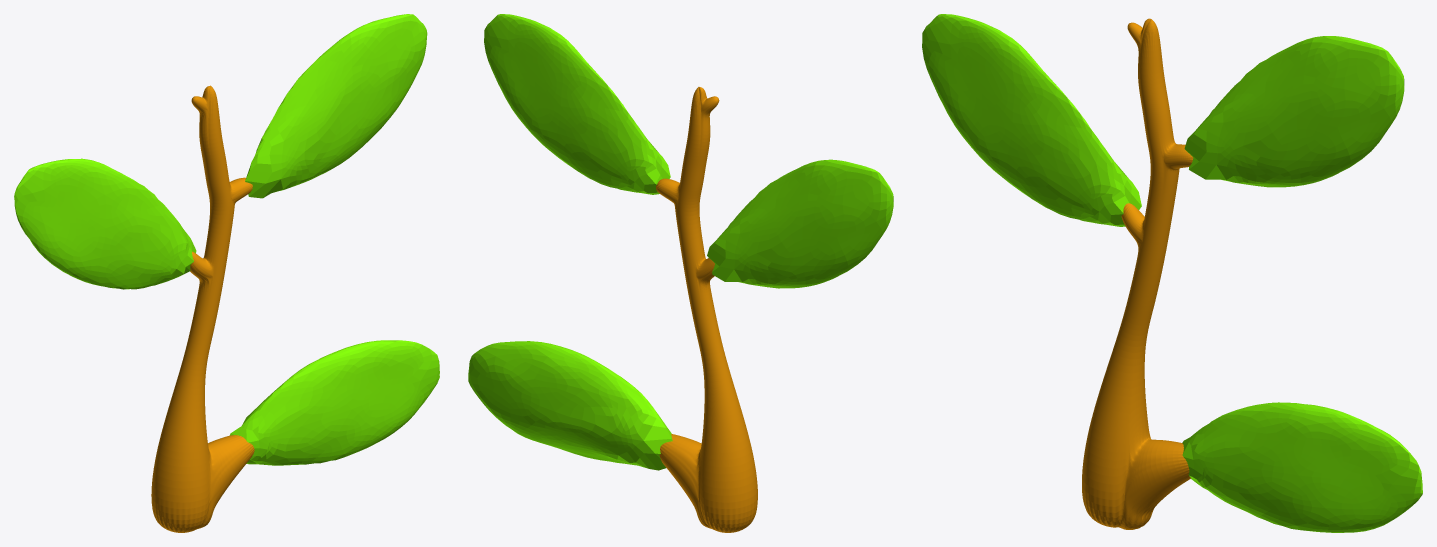
Rendered from plant.fbx.
3 views of the same model, side by side, from view 1: azimuth 30°, elevation 25°; view 2: azimuth 150°, elevation 25°; view 3: azimuth 330°, elevation 25° (orthographic). The views are drawn at different scales.
Visible parts, largest first — view 1: Icosphere.002, Cylinder.002, Icosphere.001, Icosphere; view 2: Icosphere.001, Icosphere.002, Icosphere, Cylinder.002; view 3: Icosphere.002, Icosphere, Icosphere.001, Cylinder.002.
Boxes of the visible parts, box(x1,y1,x2,y2) form: Icosphere.002: box(245, 14, 427, 198); Cylinder.002: box(151, 85, 254, 532); Icosphere.001: box(14, 158, 196, 289); Icosphere: box(230, 340, 439, 465); Icosphere.001: box(707, 159, 893, 288); Icosphere.002: box(484, 14, 670, 194); Icosphere: box(468, 341, 672, 470); Cylinder.002: box(656, 87, 757, 532); Icosphere.002: box(1184, 36, 1404, 187); Icosphere: box(1182, 402, 1422, 532); Icosphere.001: box(922, 14, 1141, 226); Cylinder.002: box(1082, 18, 1193, 529).
Bounding box in the file's own units: 96.13 × 100 × 11.74.
